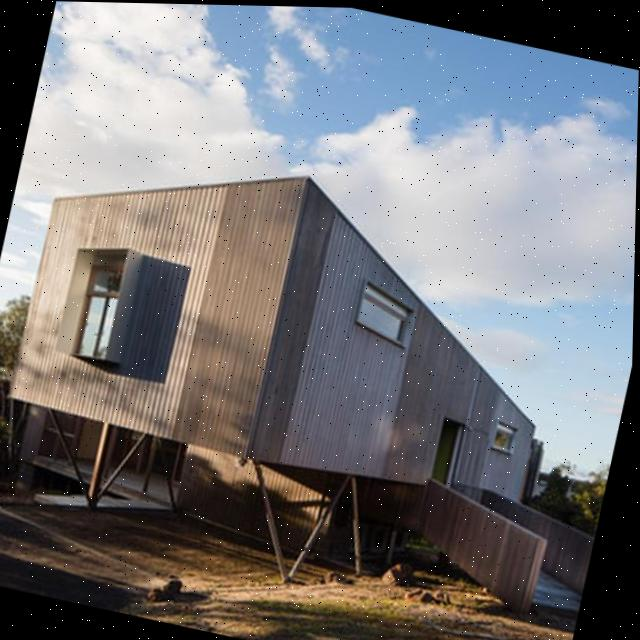building: (0, 121, 637, 630)
